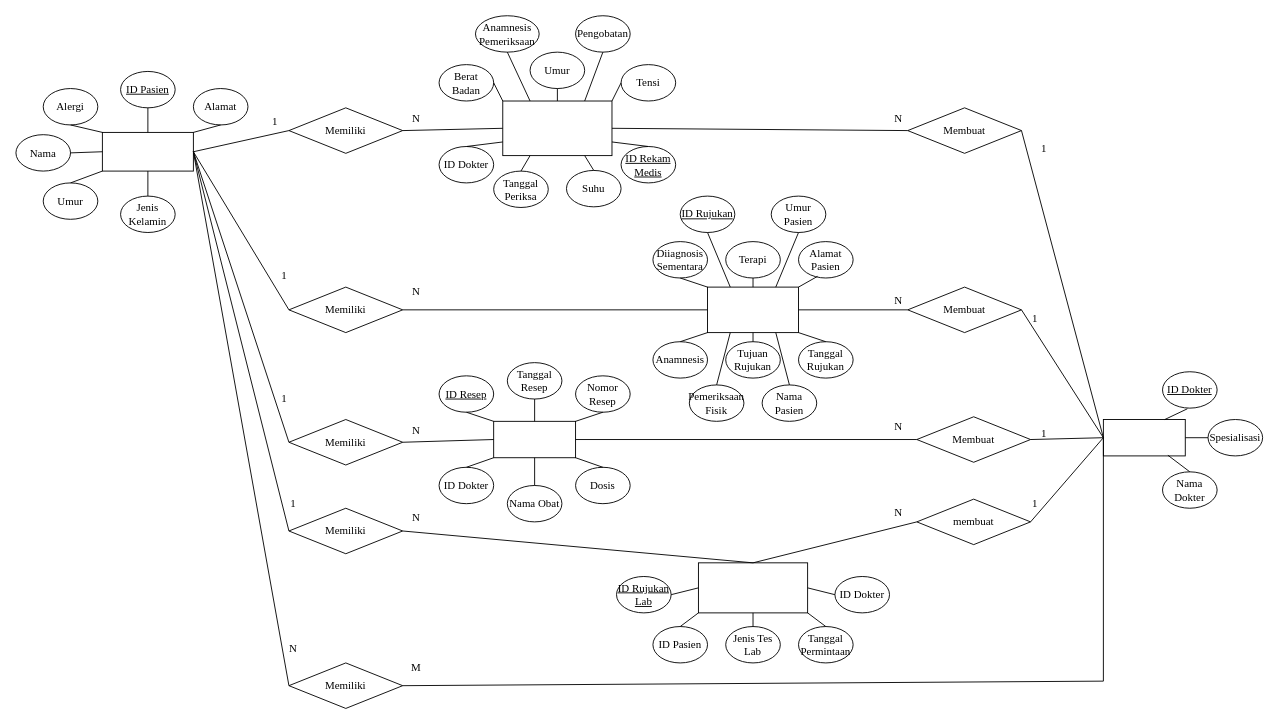
Some shapes in this 1279 by 725 pixel diagram are drawn without their labels. The centre of each missing label's shape, as x and y in pixels:
"Dokter" goes at (1143,437).
"Pasien" goes at (147,151).
"Rekam Medis" goes at (557,128).
"Resep" goes at (534,439).
"Rujukan" goes at (753,309).
"Rujukan Laboratorium" goes at (753,587).
